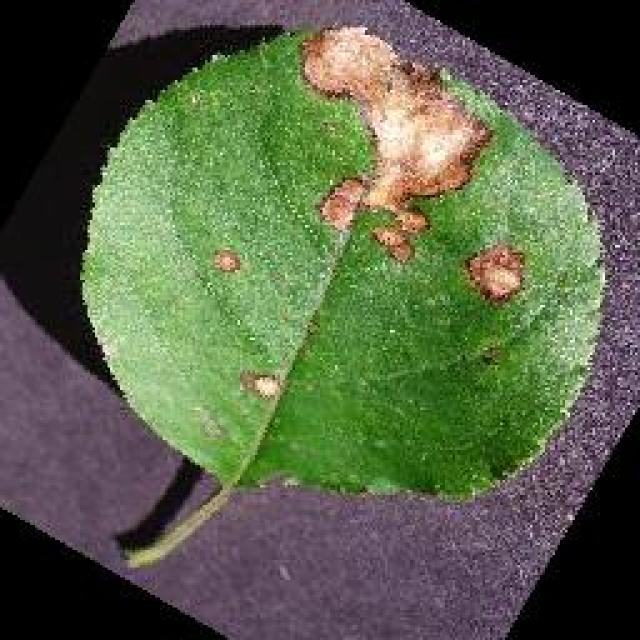Black_rot: (75, 22, 607, 568)
